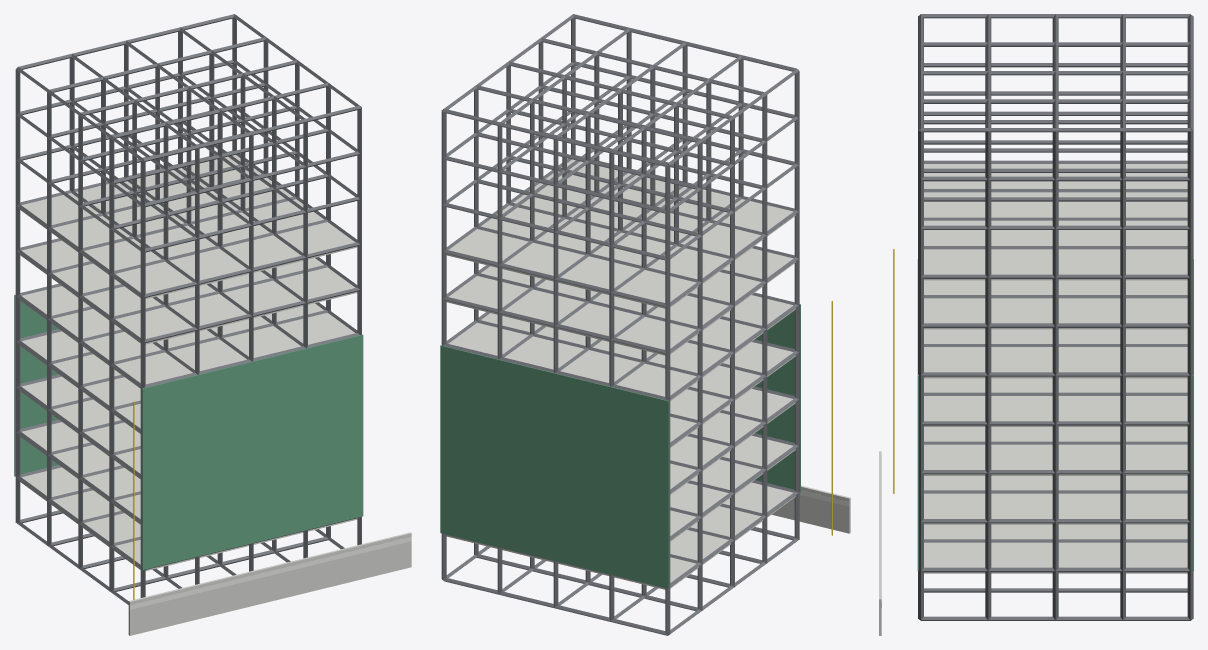
File: construction_frame.glb
3 renders of one model, left to right at view 1: azimuth 30°, elevation 25°; view 2: azimuth 150°, elevation 25°; view 3: azimuth 270°, elevation 25°, orthographic. The views are drawn at different scales.
Parts seen in each view (by area): view 1: construction_frame; view 2: construction_frame; view 3: construction_frame.
Part boxes in pixels (<box>): construction_frame: <box>14,14,411,635</box>; construction_frame: <box>440,14,850,635</box>; construction_frame: <box>879,14,1193,635</box>.
Size of the model in its own units: 26 by 40.36 by 23.36.
